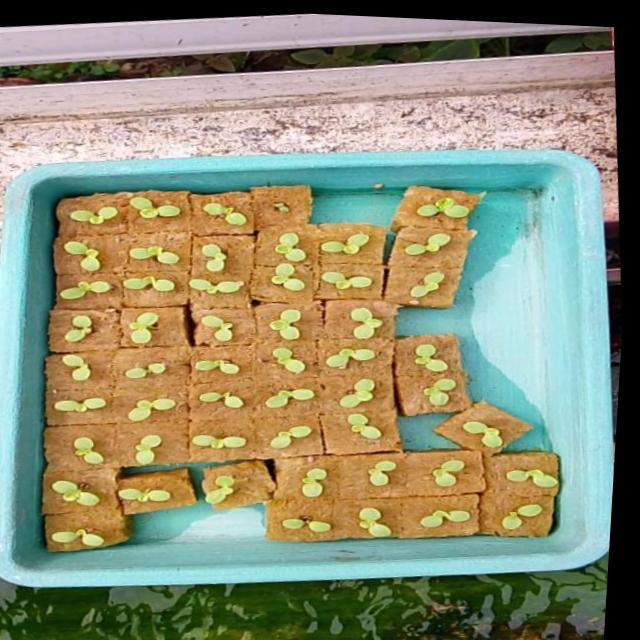Baby: (437, 414, 494, 453), (479, 504, 542, 536), (44, 439, 106, 471), (325, 381, 378, 410), (302, 267, 355, 295), (472, 474, 525, 502), (176, 315, 221, 345), (314, 347, 362, 375), (99, 358, 160, 380), (407, 508, 467, 530), (31, 312, 72, 344), (35, 281, 93, 301), (410, 380, 445, 413), (400, 199, 454, 220), (110, 401, 159, 424), (108, 196, 159, 218), (42, 241, 77, 272), (182, 202, 227, 226), (333, 310, 366, 342), (107, 312, 139, 345), (388, 236, 435, 258), (251, 311, 283, 343), (333, 415, 368, 444), (253, 264, 287, 293), (180, 392, 229, 412), (256, 235, 288, 265), (250, 391, 299, 410), (345, 510, 377, 539), (256, 349, 290, 376), (168, 279, 225, 295), (102, 276, 155, 293), (416, 461, 448, 489), (305, 233, 352, 252), (394, 274, 428, 300), (49, 206, 97, 224), (117, 437, 145, 467), (35, 400, 88, 415), (286, 471, 312, 500), (43, 357, 73, 382), (400, 345, 433, 367), (178, 361, 223, 377), (354, 463, 381, 489), (182, 244, 207, 272), (257, 429, 288, 451), (109, 247, 149, 261)
